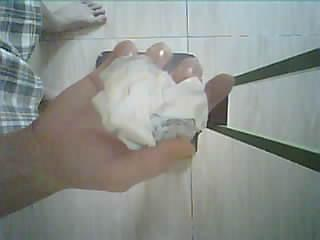paper: (92, 54, 208, 149)
